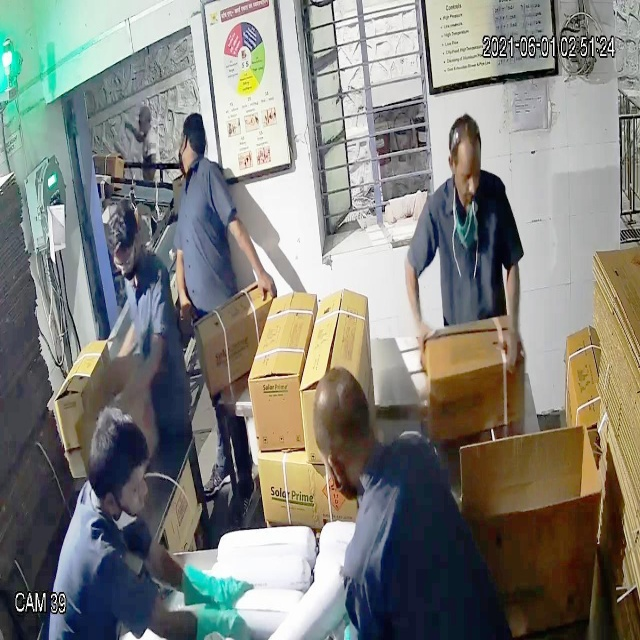Gafas: (109, 242, 144, 280)
Sin_gafas: (447, 156, 486, 191)
